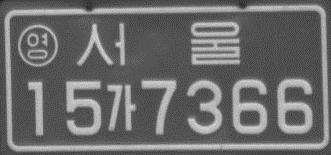1: (23, 78, 49, 138)
3: (186, 77, 223, 136)
5: (63, 78, 103, 137)
6: (274, 77, 315, 135), (231, 76, 269, 136)
7: (139, 78, 178, 137)
가: (104, 82, 137, 133)
서울_D: (73, 20, 242, 67)
영: (16, 23, 58, 69)
